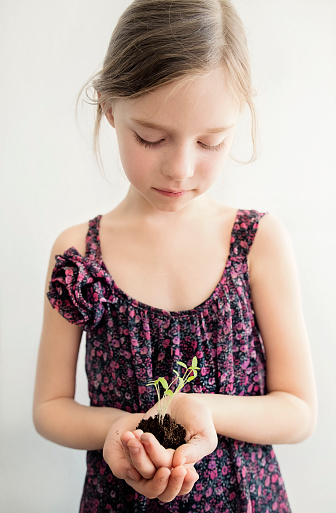em pe: (25, 12, 325, 511)
